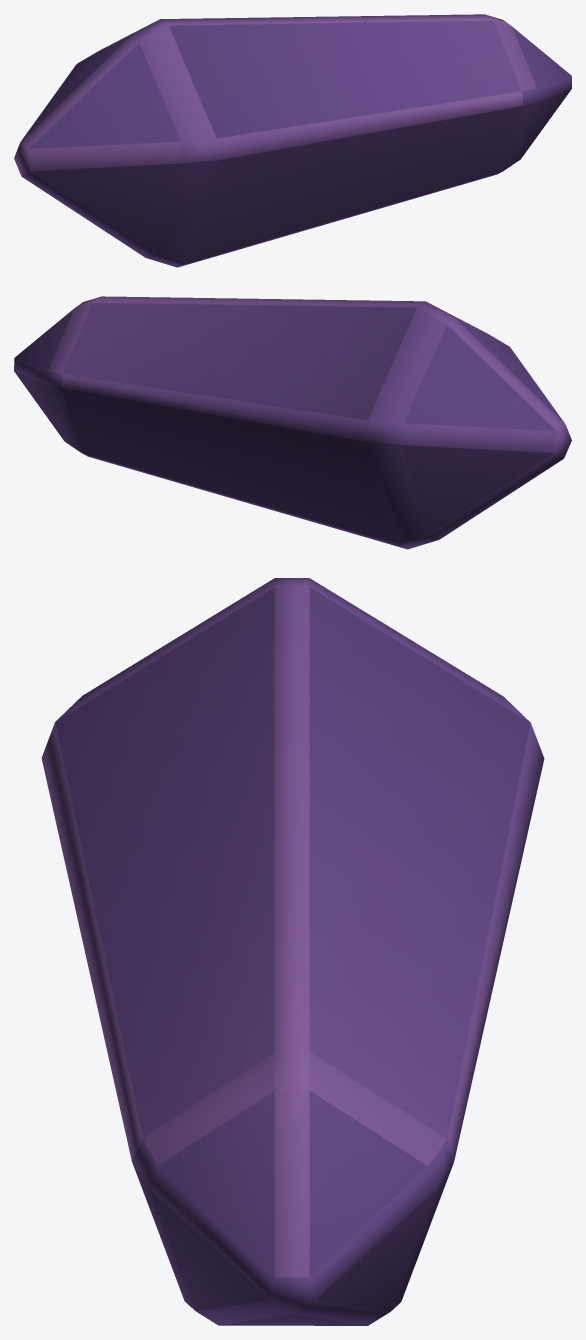
File: christal_amethyst_2.fbx
3 renders of one model, top to bottom at view 1: azimuth 30°, elevation 25°; view 2: azimuth 150°, elevation 25°; view 3: azimuth 270°, elevation 25°, orthographic. The views are drawn at different scales.
Visible parts, largest first — view 1: christal_amethyst_2; view 2: christal_amethyst_2; view 3: christal_amethyst_2.
Boxes of the visible parts, bbox=[...] form: christal_amethyst_2: bbox=[14, 14, 571, 267]; christal_amethyst_2: bbox=[14, 296, 571, 549]; christal_amethyst_2: bbox=[41, 578, 544, 1325].
Size of the model in its own units: 86.4 by 32.67 by 34.49.
1 material, 1 textured.
